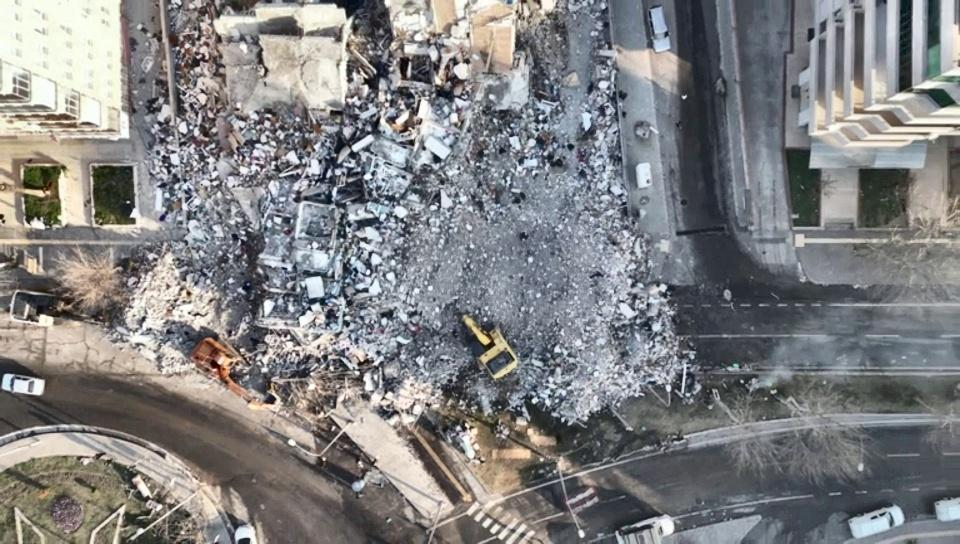kapali: (179, 303, 729, 366)
